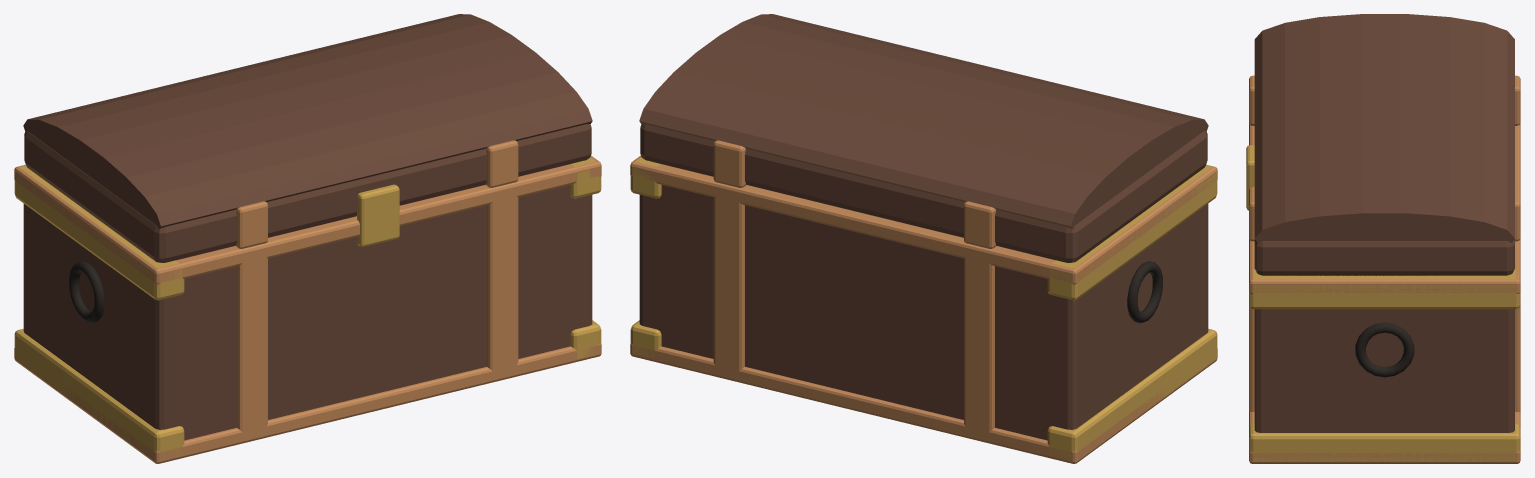
Rendered from hh_cat_trunk_v.glb.
3 renders of one model, left to right at view 1: azimuth 30°, elevation 25°; view 2: azimuth 150°, elevation 25°; view 3: azimuth 270°, elevation 25°, orthographic. The views are drawn at different scales.
Parts seen in each view (by area): view 1: body, lid_dome, lid, lid_rim, base_rim, band.002, band, corner, corner.001, latch, band.003, handle (+3 smaller); view 2: body, lid_dome, lid, lid_rim, base_rim, band.002, band, corner, corner.001, band.003, handle, band.001 (+2 smaller); view 3: lid_dome, body, lid, corner.003, corner.002, lid_rim, base_rim, handle.001, band.002, band.001, band.003, latch.
Boxes of the visible parts, x1,y1,x2,y2 form: body: [23, 164, 592, 440]; lid_dome: [23, 14, 592, 229]; lid: [24, 124, 591, 262]; lid_rim: [14, 155, 601, 284]; base_rim: [14, 343, 601, 463]; band.002: [487, 182, 518, 382]; band: [237, 243, 267, 442]; corner: [14, 329, 184, 458]; corner.001: [14, 165, 184, 300]; latch: [357, 184, 399, 246]; band.003: [485, 140, 518, 187]; handle: [69, 261, 104, 323]; body: [639, 161, 1208, 440]; lid_dome: [639, 14, 1208, 229]; lid: [640, 124, 1207, 262]; lid_rim: [630, 155, 1217, 284]; base_rim: [630, 343, 1217, 463]; band.002: [713, 182, 744, 382]; band: [964, 243, 994, 443]; corner: [1047, 329, 1217, 460]; corner.001: [1047, 165, 1217, 300]; band.003: [713, 140, 746, 187]; handle: [1127, 261, 1162, 323]; band.001: [964, 201, 996, 248]; lid_dome: [1254, 14, 1514, 242]; body: [1254, 275, 1514, 432]; lid: [1254, 239, 1514, 275]; corner.003: [1249, 269, 1520, 309]; corner.002: [1249, 423, 1520, 461]; lid_rim: [1249, 126, 1520, 293]; base_rim: [1249, 412, 1520, 463]; handle.001: [1355, 322, 1414, 377]; band.002: [1249, 238, 1520, 412]; band.001: [1249, 75, 1520, 125]; band.003: [1249, 191, 1520, 241]; latch: [1246, 145, 1254, 210].
Size of the model in its own units: 0.9 by 0.5 by 0.5.
